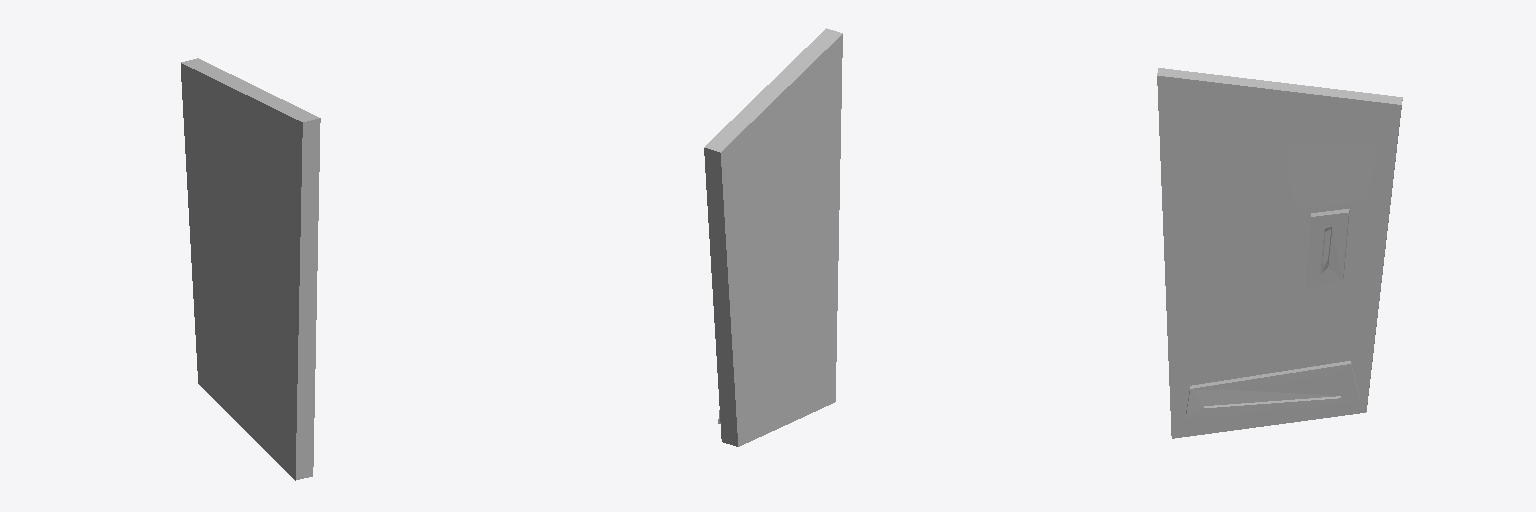
Rendered from ASSET_machine_porte_v1.obj.
3 renders of one model, left to right at view 1: azimuth 30°, elevation 25°; view 2: azimuth 150°, elevation 25°; view 3: azimuth 270°, elevation 25°, orthographic.
Parts seen in each view (by area): view 1: MACHINE.003_Cube.012; view 2: MACHINE.003_Cube.012; view 3: MACHINE.003_Cube.012.
Part boxes in pixels (left/top/right/bottom): MACHINE.003_Cube.012: left=181, top=58, right=320, bottom=480; MACHINE.003_Cube.012: left=704, top=28, right=842, bottom=446; MACHINE.003_Cube.012: left=1157, top=68, right=1402, bottom=438.
Size of the model in its own units: 0.1852 by 2.29 by 1.4.